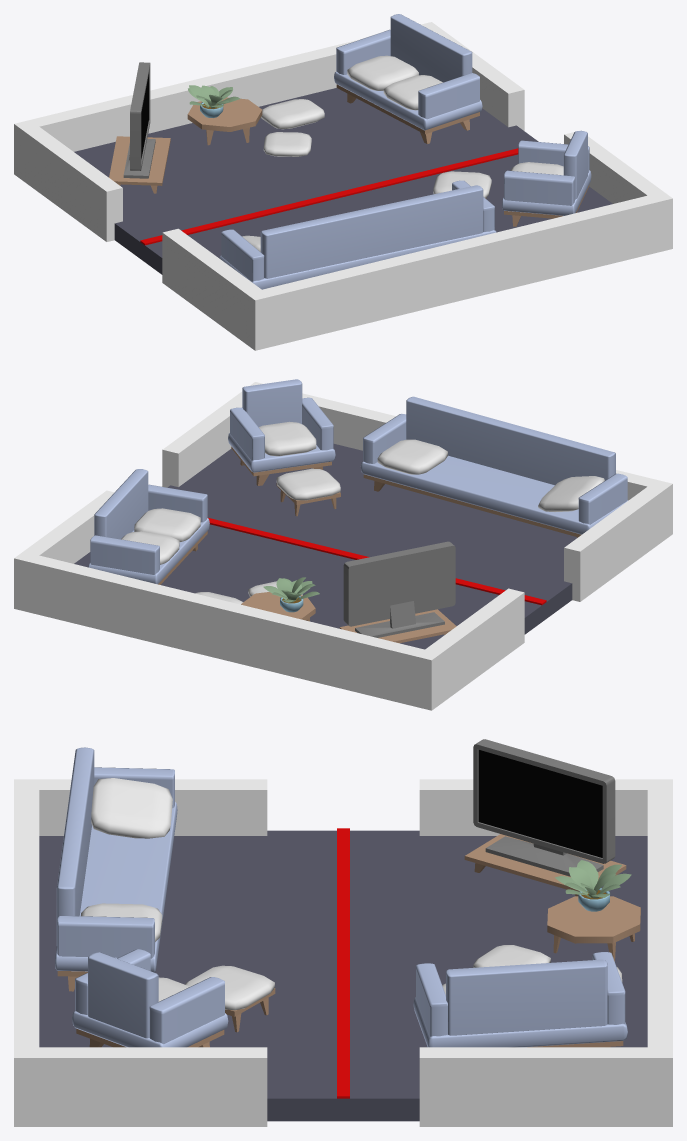
The model's file is I_Salon_Classique.fbx.
3 views of the same model, one above another, from view 1: azimuth 30°, elevation 25°; view 2: azimuth 150°, elevation 25°; view 3: azimuth 270°, elevation 25° (orthographic). The views are drawn at different scales.
Parts seen in each view (by area): view 1: I_Salon_Classique; view 2: I_Salon_Classique; view 3: I_Salon_Classique.
Boxes of the visible parts, x1,y1,x2,y2 form: I_Salon_Classique: [14, 14, 672, 350]; I_Salon_Classique: [14, 379, 672, 710]; I_Salon_Classique: [14, 739, 672, 1126].
Bounding box in the file's own units: 26 × 6.13 × 26.
